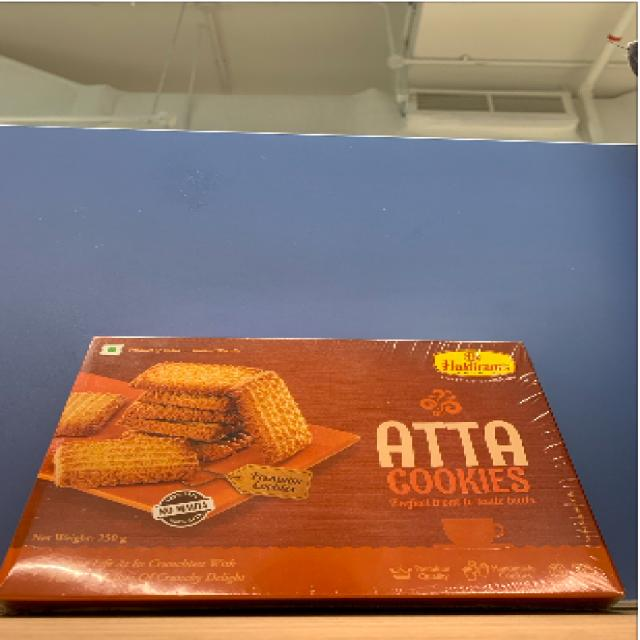object_name: (20, 343, 619, 604)
